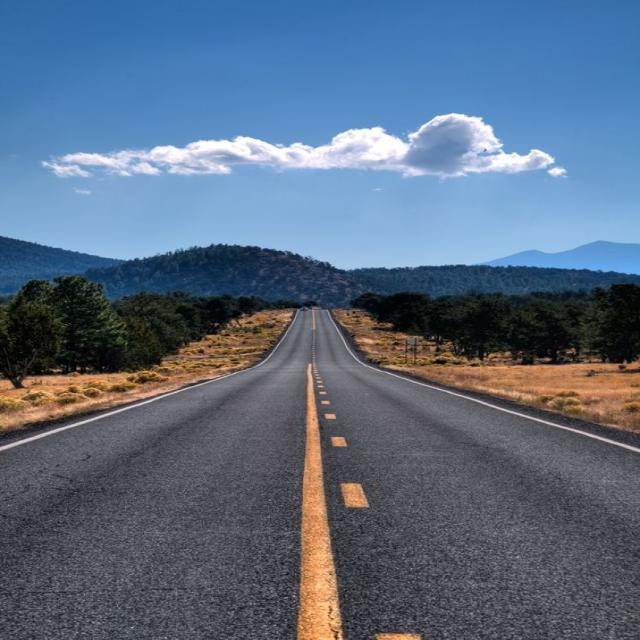asphalt: (0, 310, 639, 639)
